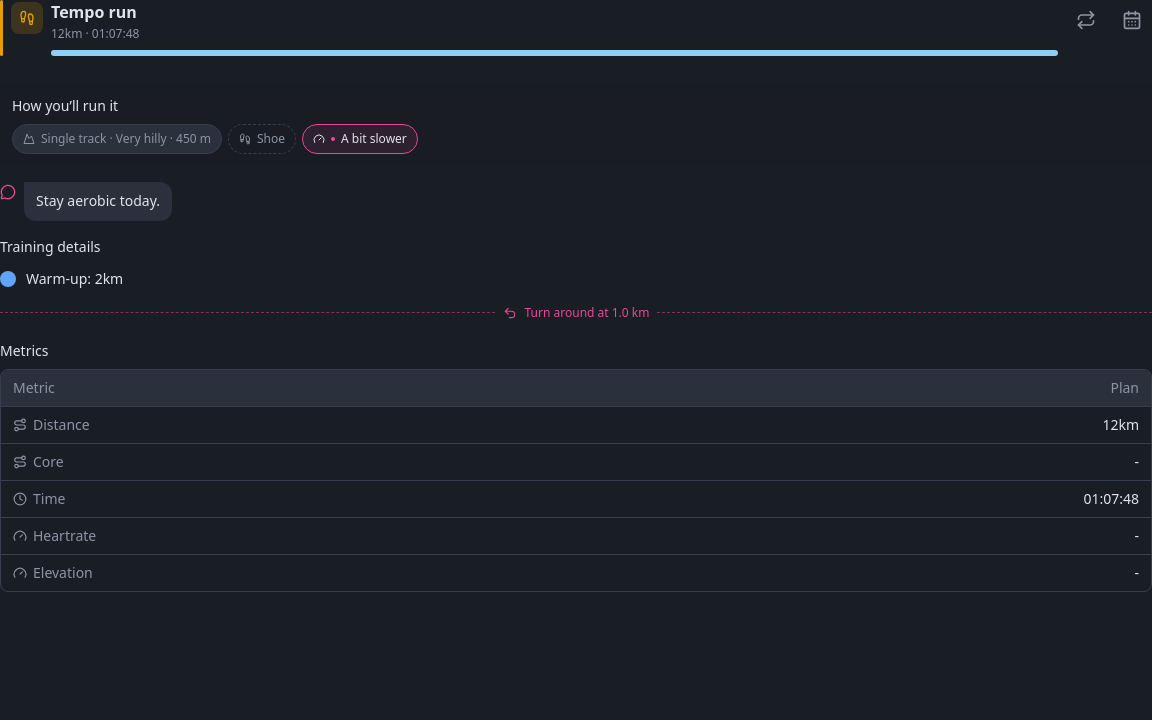
Test: terrain climb › refuses to apply a climb that is not a sane number
Click the button "Single track · Very hilly · 450 m" at (117, 139), box x1=12 y1=124 x2=222 y2=154
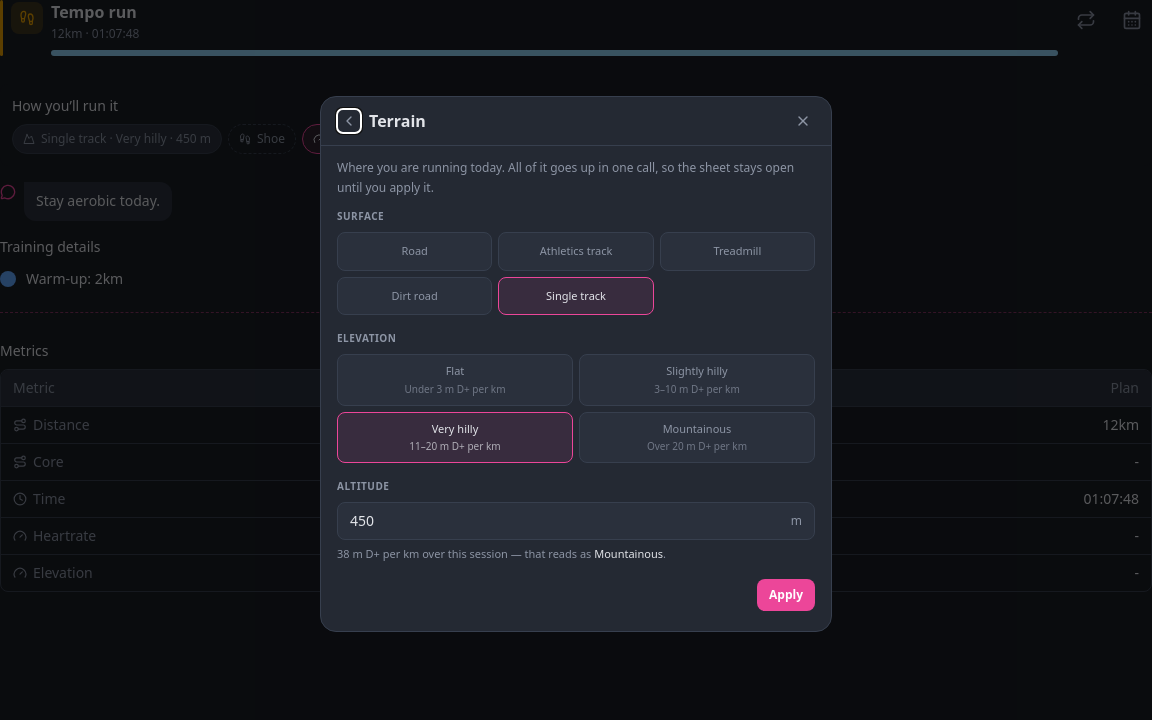
Replace the text in the number field with "-5" at (566, 521), box x1=350 y1=511 x2=783 y2=531
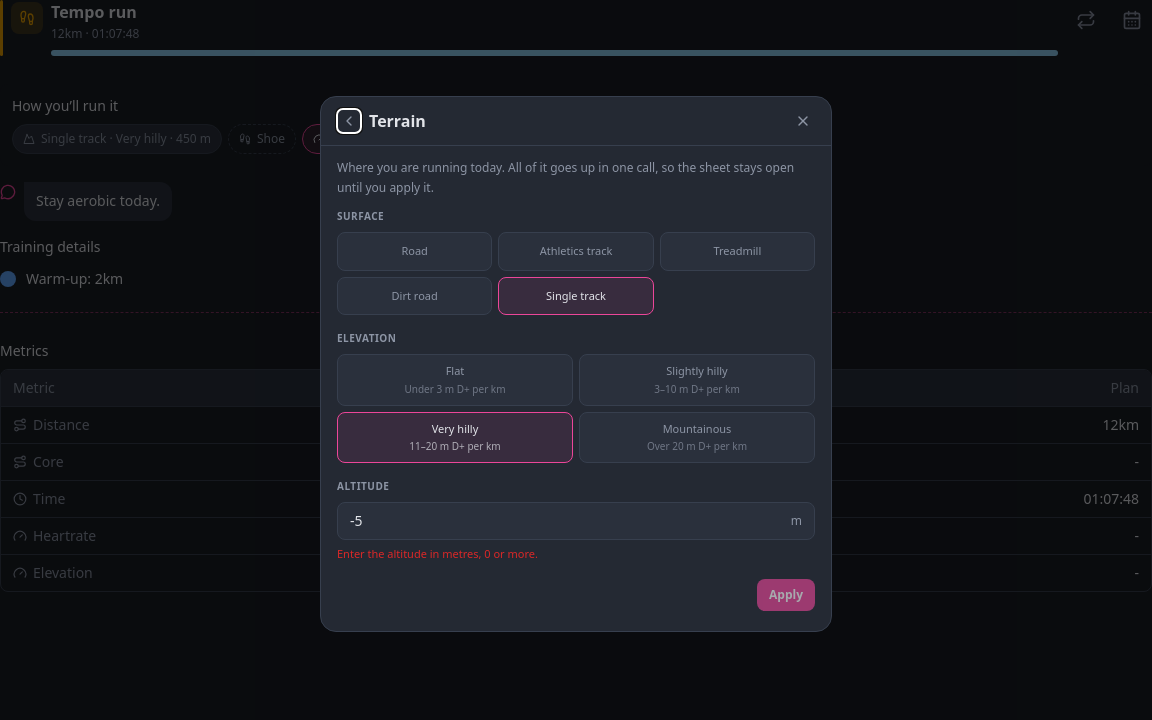
Expected: the text "Enter the altitude in metres, 0 or more." is shown, x1=337 y1=546 x2=538 y2=561
Expected: the button "Apply" is disabled, x1=757 y1=578 x2=815 y2=610
